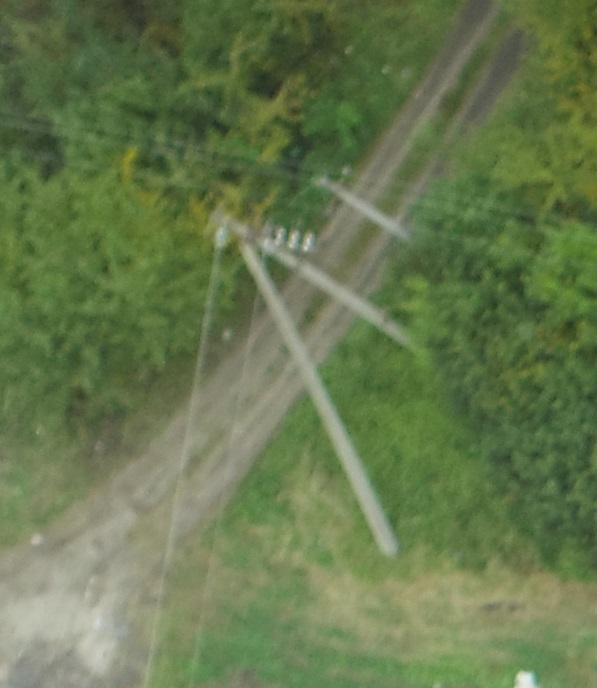opora: (211, 209, 431, 567), (308, 154, 420, 247)
